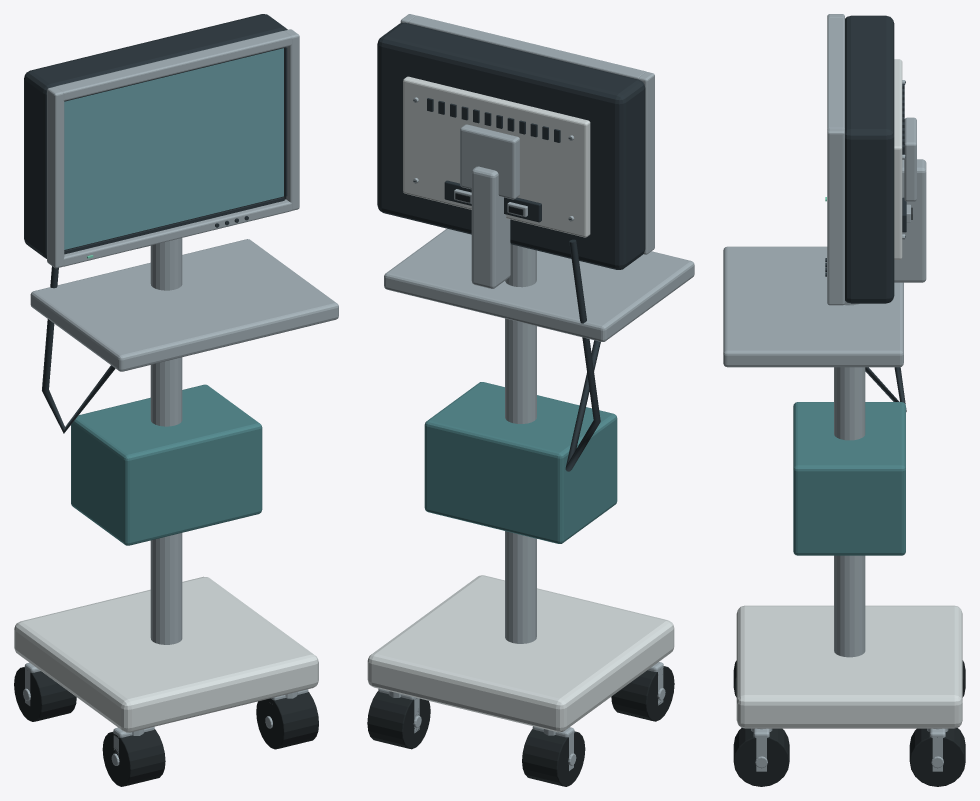
File: RD_UltrasoundCart.fbx
The picture shows the model from 3 angles, left to right: view 1: azimuth 30°, elevation 25°; view 2: azimuth 150°, elevation 25°; view 3: azimuth 270°, elevation 25°; orthographic projection.
Parts seen in each view (by area): view 1: RD_UltrasoundCart; view 2: RD_UltrasoundCart; view 3: RD_UltrasoundCart.
Boxes of the visible parts, bbox=[...] form: RD_UltrasoundCart: bbox=[14, 14, 338, 786]; RD_UltrasoundCart: bbox=[367, 14, 694, 786]; RD_UltrasoundCart: bbox=[723, 14, 965, 786].
Size of the model in its own units: 62.5 by 163 by 53.7.
